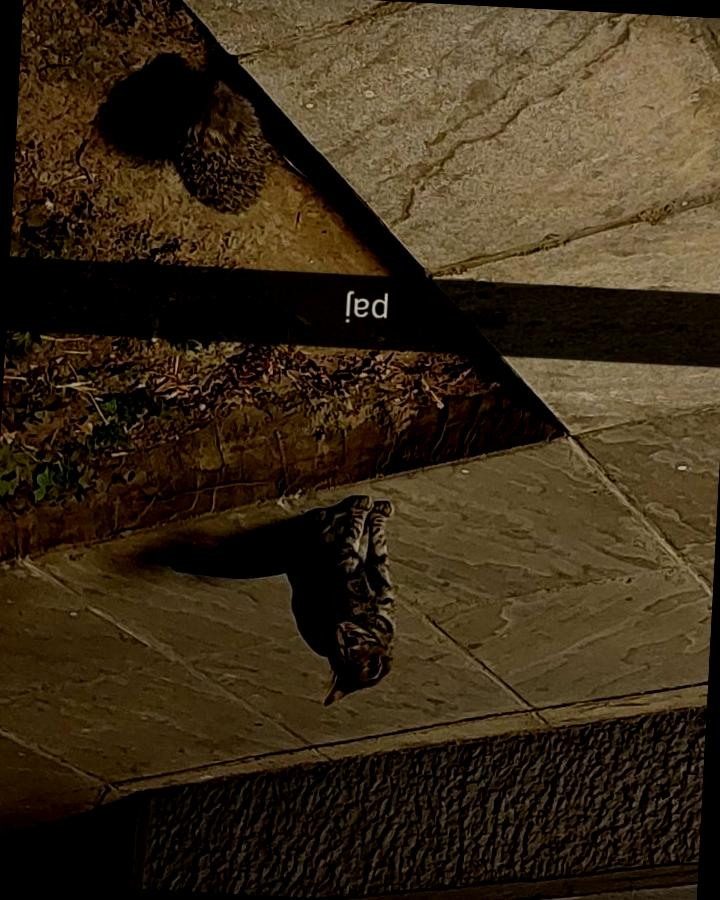macka: (160, 485, 402, 711)
